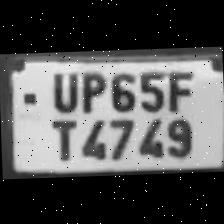4: (76, 112, 108, 159), (132, 111, 164, 156)
5: (134, 66, 164, 108)
6: (104, 67, 136, 110)
7: (104, 112, 134, 158)
9: (162, 112, 194, 157)
F: (164, 68, 194, 110)
P: (74, 66, 106, 111)
T: (43, 114, 79, 160)
U: (46, 67, 78, 110)
